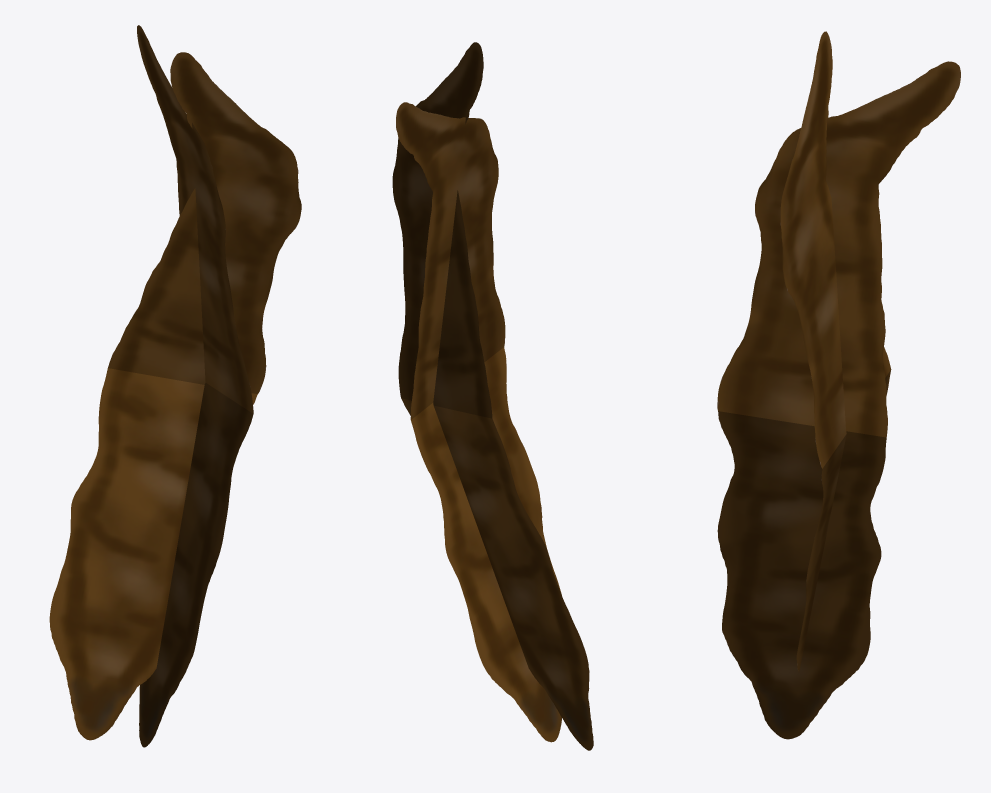
File: DestroyedCarobTreeLeaves2.fbx
3 views of the same model, side by side, from view 1: azimuth 30°, elevation 25°; view 2: azimuth 150°, elevation 25°; view 3: azimuth 270°, elevation 25° (orthographic). The views are drawn at different scales.
Parts seen in each view (by area): view 1: CarobLeafParticles1; view 2: CarobLeafParticles1; view 3: CarobLeafParticles1.
Boxes of the visible parts, <box> form: CarobLeafParticles1: <box>49,25,301,747</box>; CarobLeafParticles1: <box>392,42,593,750</box>; CarobLeafParticles1: <box>717,31,960,739</box>.
Size of the model in its own units: 0.7081 by 1.61 by 0.5991.
